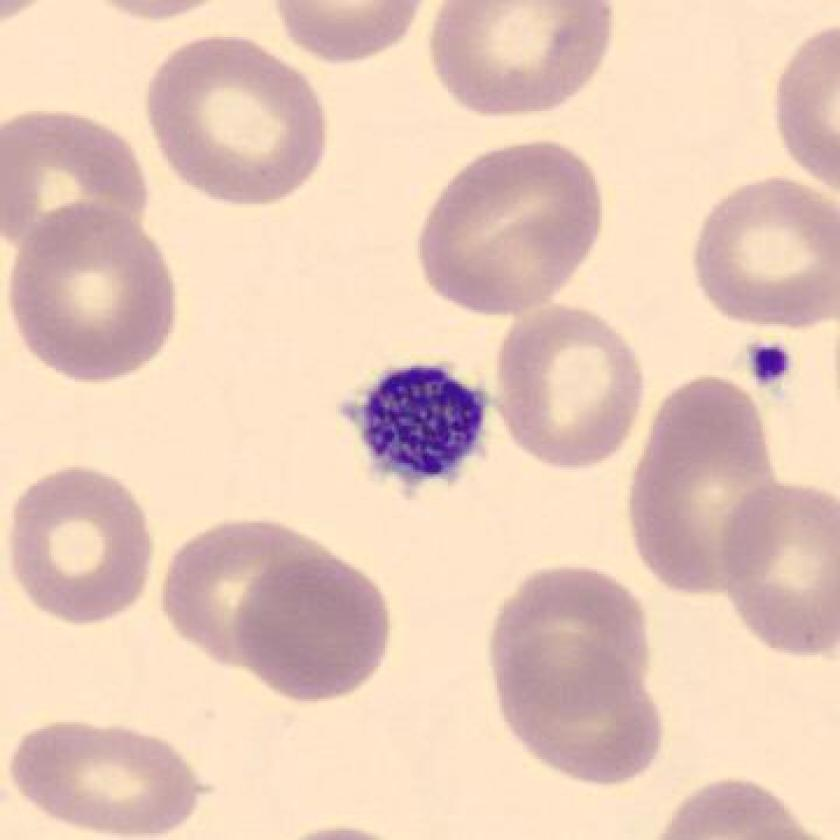platelets: (344, 351, 500, 497), (734, 325, 808, 406)
